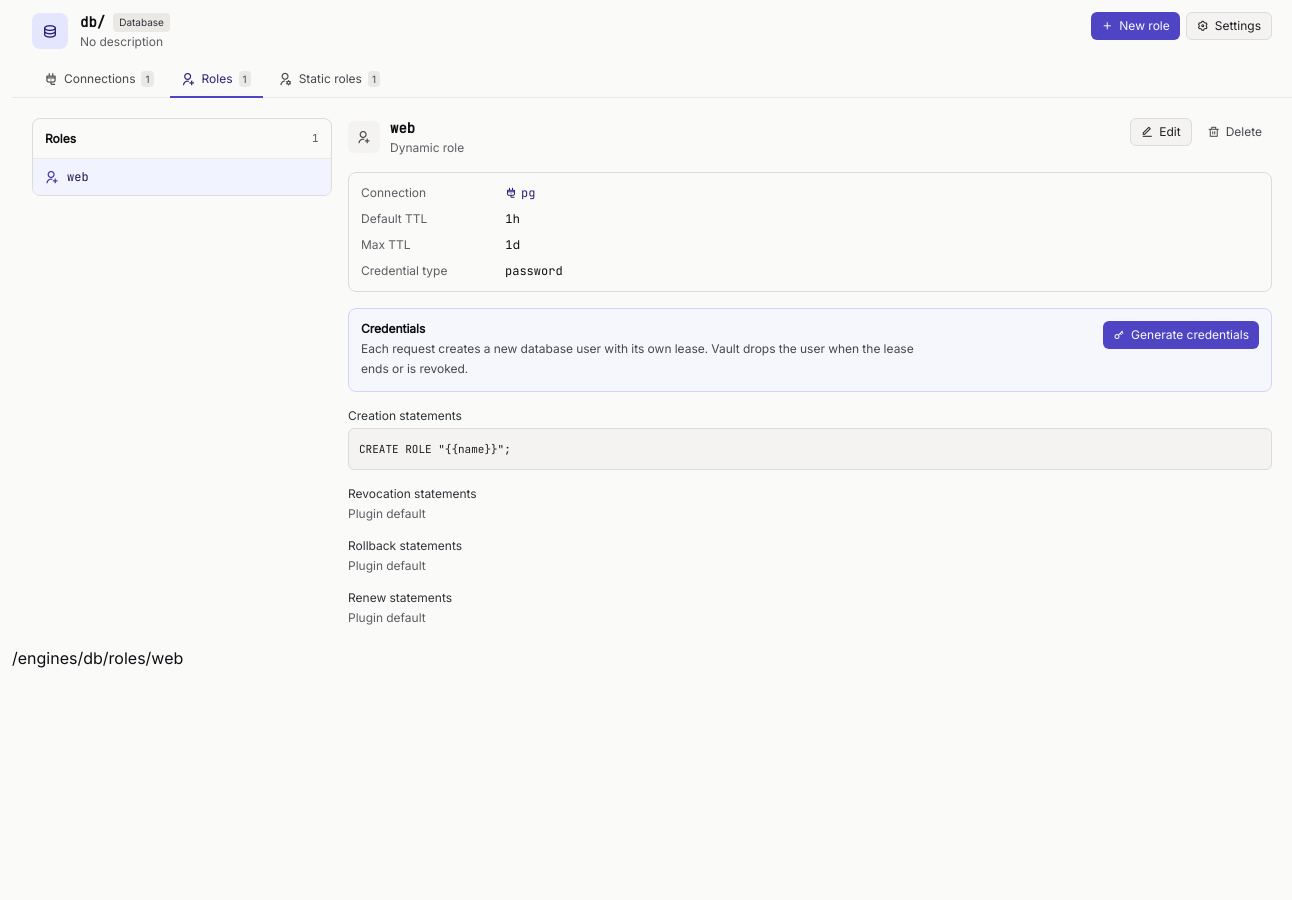
DatabaseEnginePage roles › shows why Vault refused to issue credentials
Click the button "Generate credentials". click: (1181,335)
box: [1103,321,1259,349]
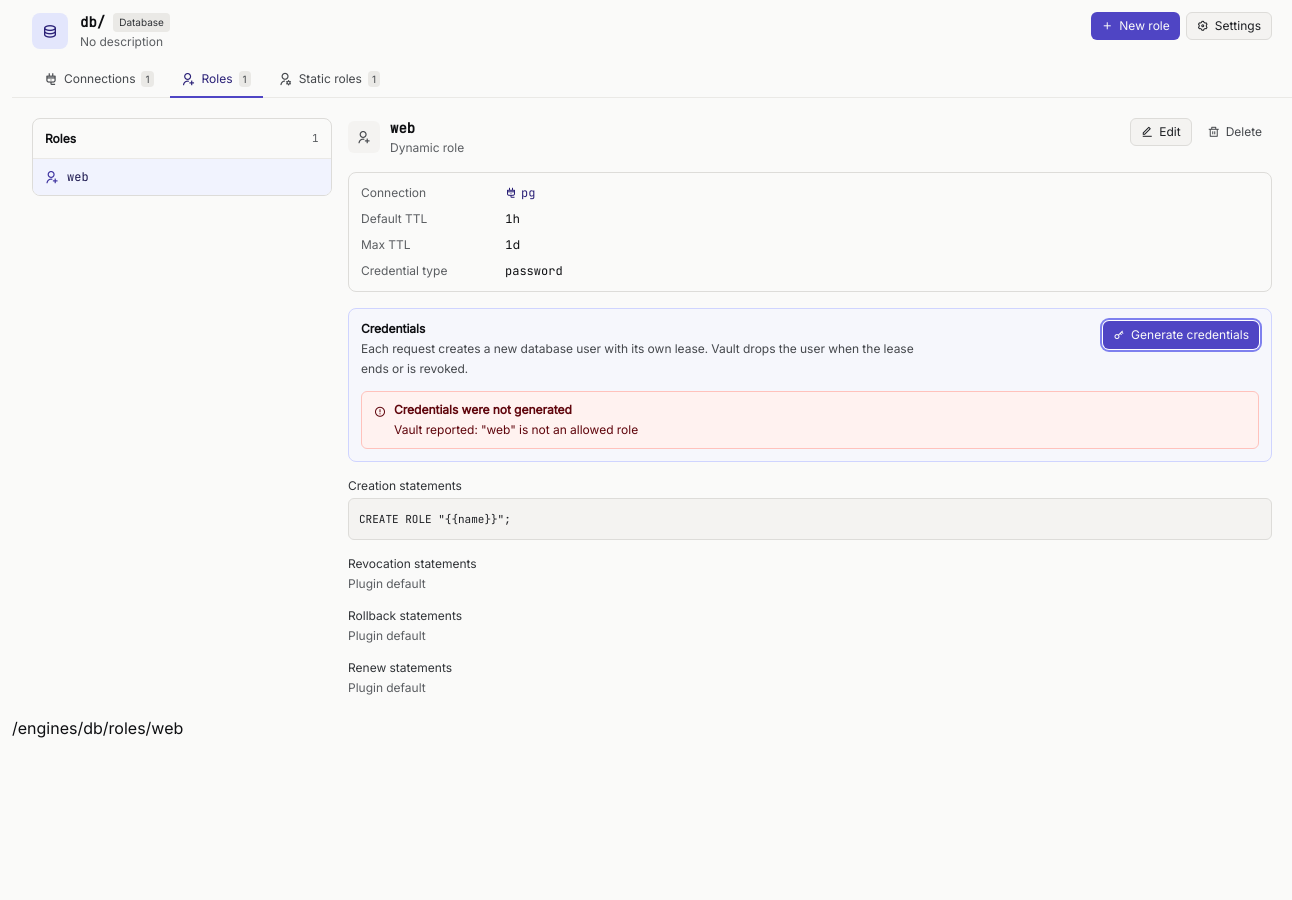
Now the text "Vault reported: \"web\" is not an allowed role" is shown, box [394,420,638,440]
